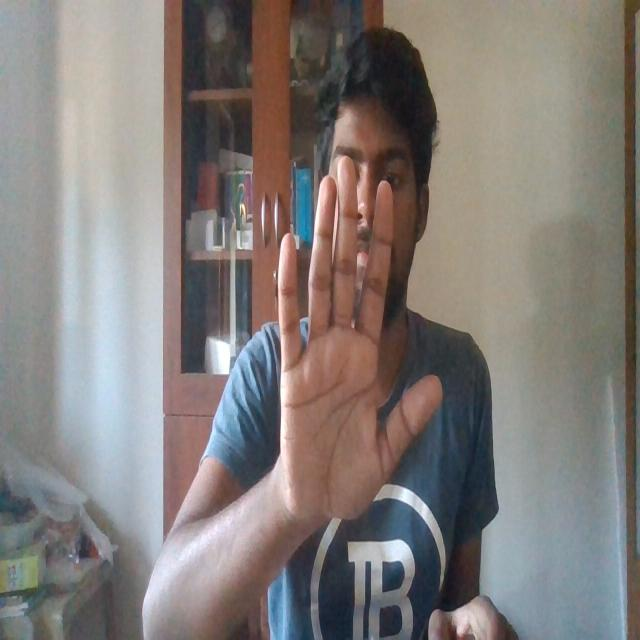Hello: (266, 146, 445, 531)
